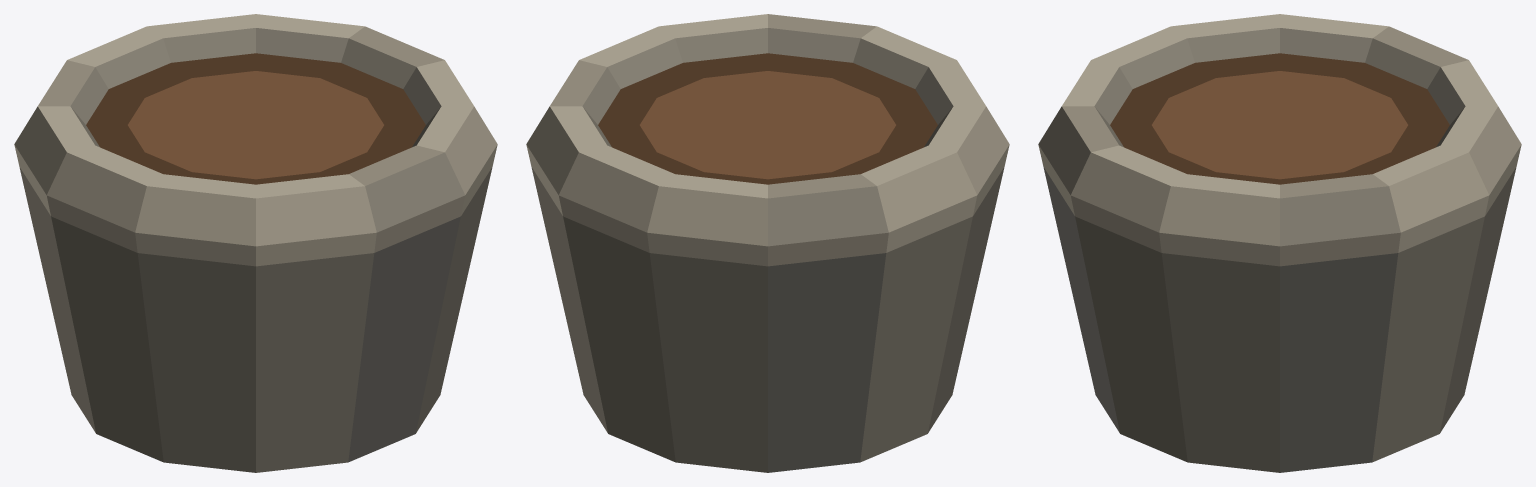
Rendered from CS_Plant_Pot_01.fbx.
The picture shows the model from 3 angles, left to right: view 1: azimuth 30°, elevation 25°; view 2: azimuth 150°, elevation 25°; view 3: azimuth 270°, elevation 25°; orthographic projection.
Visible parts, largest first — view 1: CS_Plant_Pot_01; view 2: CS_Plant_Pot_01; view 3: CS_Plant_Pot_01.
Part boxes in pixels (left/top/right/bottom): CS_Plant_Pot_01: left=14, top=14, right=497, bottom=472; CS_Plant_Pot_01: left=526, top=14, right=1009, bottom=472; CS_Plant_Pot_01: left=1038, top=14, right=1521, bottom=472.
Bounding box in the file's own units: 0.6087 × 0.4012 × 0.6087.
